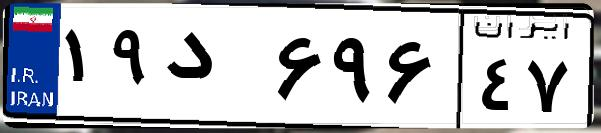1: (57, 26, 110, 100)
4: (475, 38, 525, 113)
6: (270, 28, 330, 110), (385, 28, 445, 110)
7: (525, 38, 570, 115)
9: (330, 28, 385, 110), (110, 28, 158, 98)
د: (158, 20, 270, 120)
